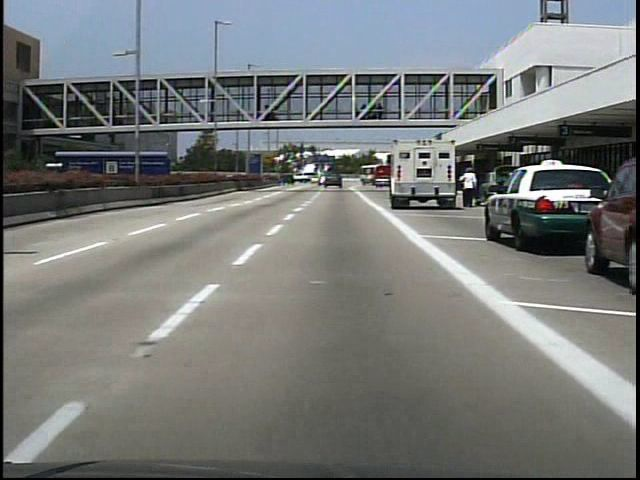person: (460, 167, 479, 210)
